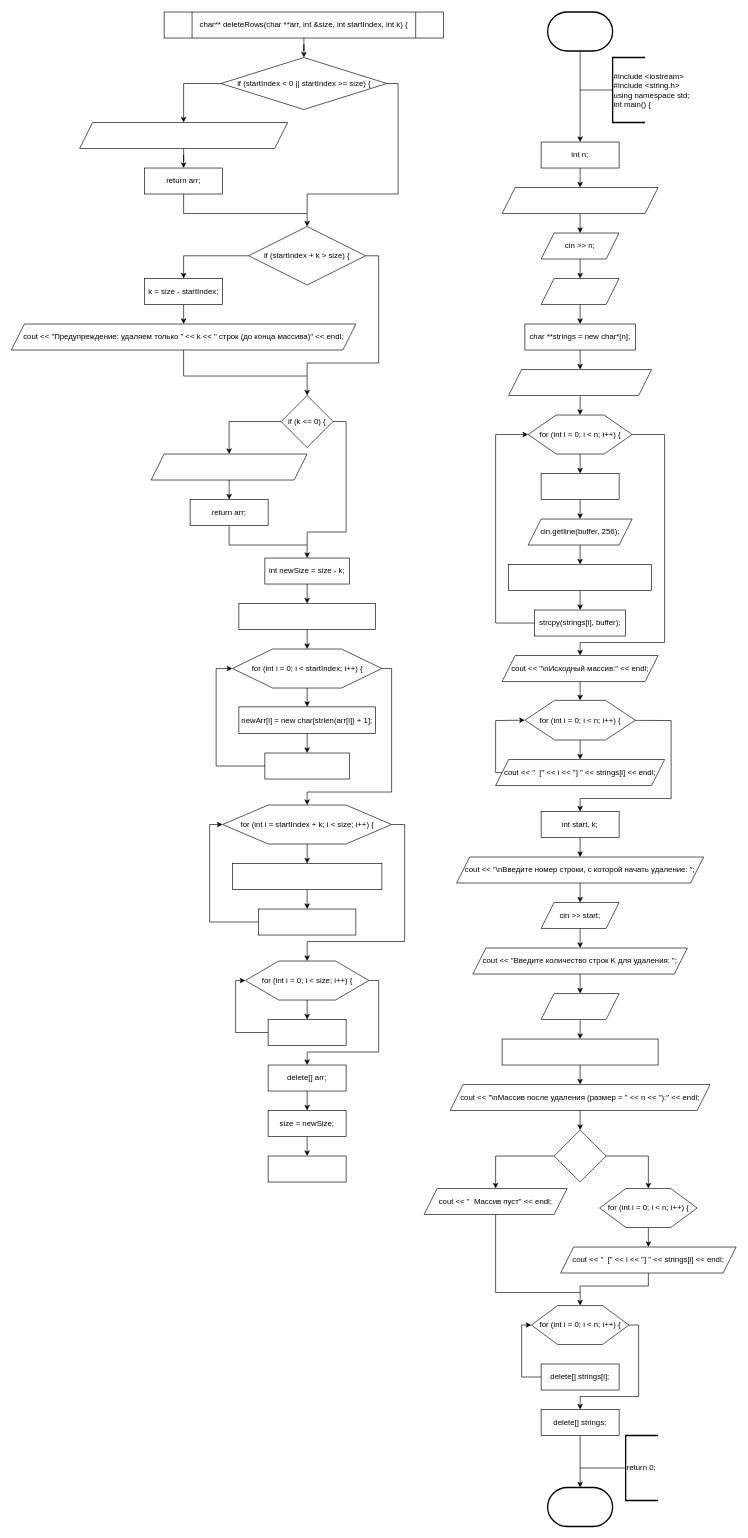
Some shapes in this 748 by 1538 pixel diagram are drawn without their labels. The box of each missing label's shape, as (x1, y1, x2, y2) in pixels:
char **newArr = new char*[newSize];: (238, 603, 375, 630)
char buffer[256];: (540, 473, 619, 500)
cin >> k;: (540, 993, 619, 1020)
cin.get();: (540, 278, 619, 305)
cout << "Введите количество строк: ";: (501, 187, 658, 214)
cout << "Введите строки:" << endl;: (508, 369, 652, 396)
cout << "Ничего не удалено" << endl;: (150, 453, 307, 480)
cout << "Ошибка: неверный номер строки!" << endl;: (79, 122, 288, 149)
delete[] arr[i];: (267, 1019, 346, 1046)
if (n == 0) {: (553, 1129, 606, 1182)
newArr[i - k] = new char[strlen(arr[i]) + 1];: (232, 863, 382, 890)
return newArr;: (267, 1155, 346, 1182)
strcpy(newArr[i - k], arr[i]);: (258, 908, 356, 935)
strcpy(newArr[i], arr[i]);: (264, 752, 349, 779)
strings = deleteRows(strings, n, start, k);: (501, 1038, 658, 1065)
strings[i] = new char[strlen(buffer) + 1];: (508, 564, 652, 591)
Конец: (547, 1487, 613, 1527)
Начало: (547, 11, 613, 51)
